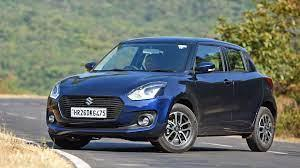Hatchback: (44, 34, 280, 153)
